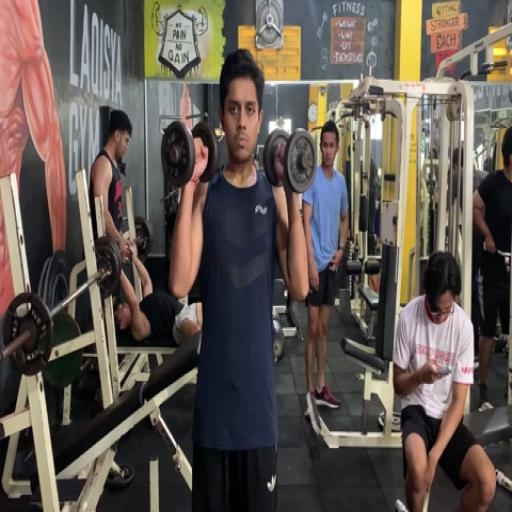exercise: (166, 47, 312, 511), (390, 249, 500, 510), (300, 118, 353, 421)
